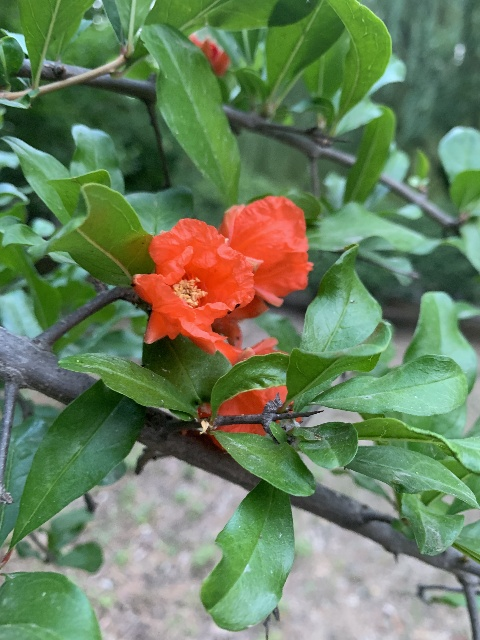flower: (131, 218, 255, 356), (197, 336, 303, 451), (217, 195, 313, 307), (189, 34, 230, 78)
